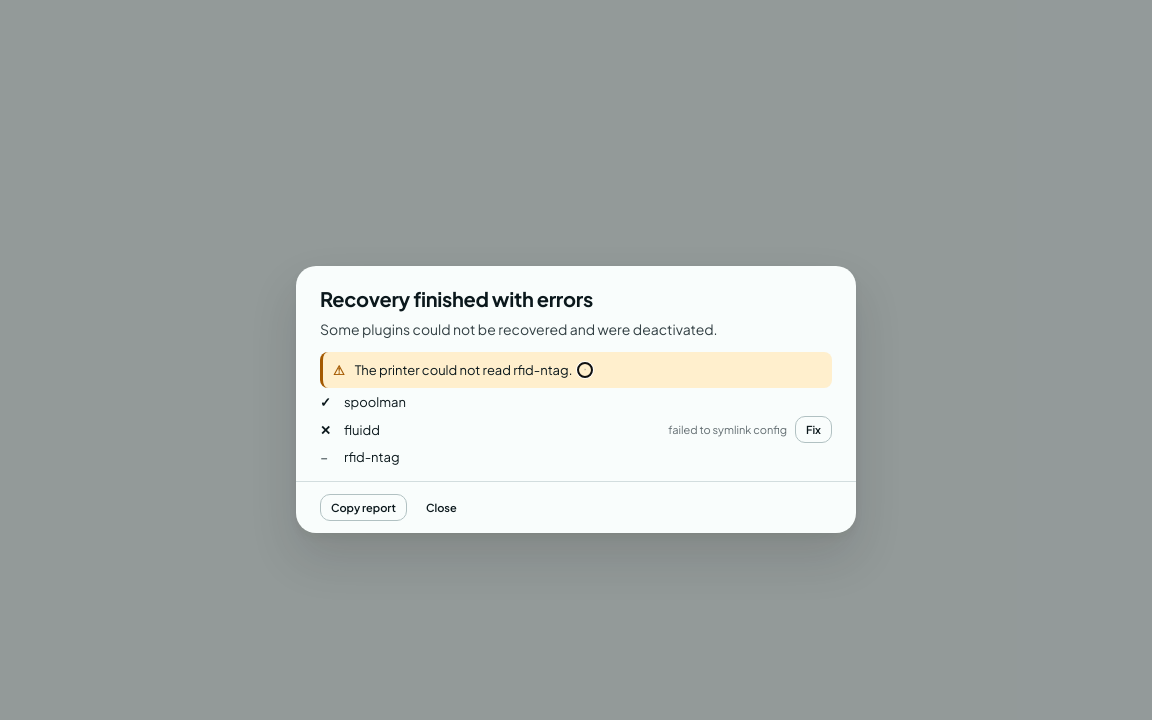
Test: OtaRecoveryResultsModal, plugins the printer could not read › names the plugin the printer could not read and what it could not make sense of
Click the button with class "explainer-toggle". click: (585, 370)
box: [577,362,593,378]
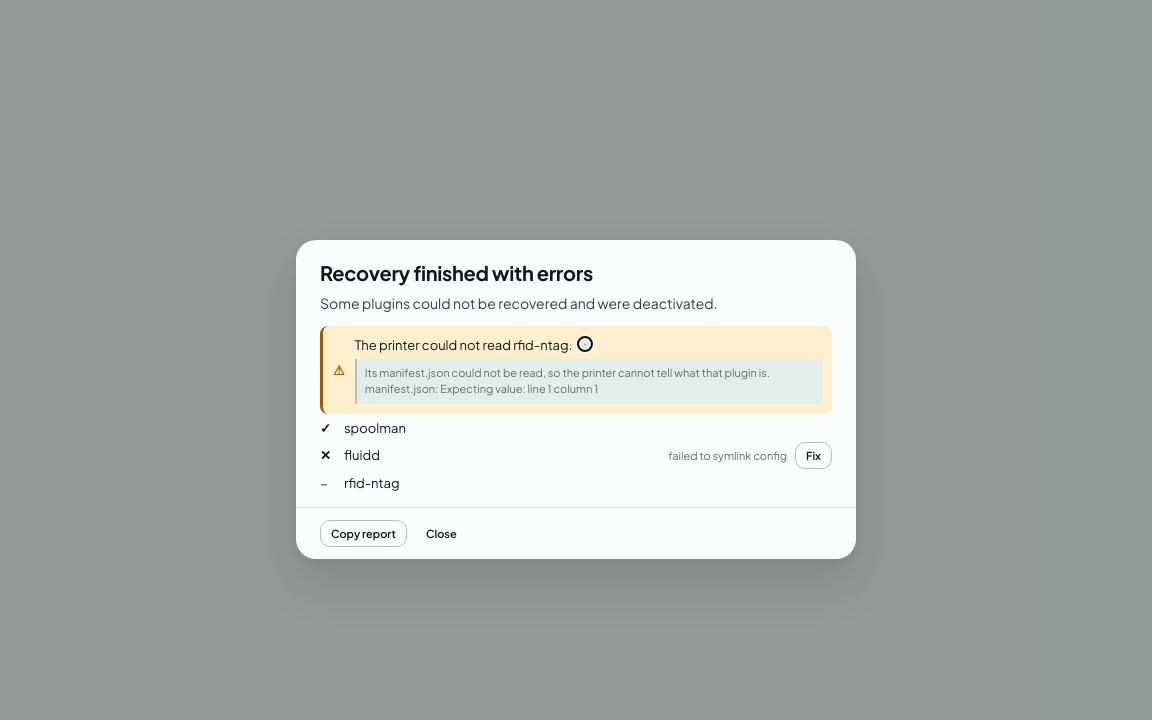
Result: the text "Expecting value: line 1 column 1" is shown at [365,366,770,395]
